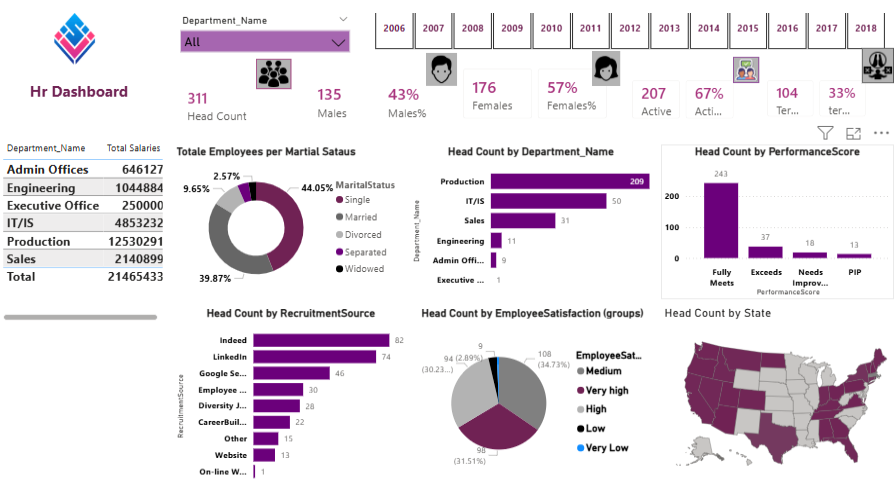

The dashboard page shown, as its layout file describes it:
{"tool":"powerbi","page":{"name":"Page 1","canvas":[1280,720],"ordinal":0},"visuals":[{"type":"cardVisual","fields":{"Data":["Departements.Head Count"]},"box":[236.7,100.6,177.2,96.4],"z":0},{"type":"donutChart","title":"Totale Employees per Martial Sataus","fields":{"Category":["HRData.MaritalStatus"],"Y":["Departements.Head Count"]},"box":[246.6,206.9,334.5,225.4],"z":1000},{"type":"clusteredBarChart","fields":{"Category":["Departements.Department_Name"],"Y":["Departements.Head Count"]},"box":[581.1,206.9,345.8,225.4],"z":2000},{"type":"clusteredColumnChart","fields":{"Category":["HRData.PerformanceScore"],"Y":["Departements.Head Count"]},"box":[938.3,206.9,330.2,225.4],"z":3000},{"type":"clusteredBarChart","fields":{"Category":["HRData.RecruitmentSource"],"Y":["Departements.Head Count"]},"box":[246.6,442.2,334.5,265],"z":4000},{"type":"pieChart","fields":{"Category":["HRData.EmployeeSatisfaction (groups)"],"Y":["Departements.Head Count"]},"box":[593.9,442.2,333.1,265],"z":5000},{"type":"slicer","fields":{"Values":["HRData.Year"]},"box":[507.4,0,772.4,75.1],"z":6000},{"type":"slicer","fields":{"Values":["Departements.Department_Name"]},"box":[246.6,12.8,260.8,67],"z":7000},{"type":"image","box":[14.2,0,185.7,106.3],"z":8000},{"type":"textbox","box":[14.2,109.1,198.4,51],"z":9000},{"type":"cardVisual","fields":{"Data":["HRData.Males","All Measure.Males%"]},"box":[422.4,92.1,226.8,104.9],"z":10000},{"type":"cardVisual","fields":{"Data":["All Measure.Active","All Measure.Active%"]},"box":[880.2,96.4,178.6,90.7],"z":11000},{"type":"cardVisual","fields":{"Data":["All Measure.Terminated","All Measure.terminated%"]},"box":[1071.5,96.4,174.3,87.9],"z":12000},{"type":"shapeMap","fields":{"Category":["HRData.State"],"Value":["All Measure.Head Count"]},"box":[938.3,442.2,341.6,265],"z":14000},{"type":"cardVisual","fields":{"Data":["All Measure.Females","All Measure.Females%"]},"box":[640.6,79.4,239.5,107.7],"z":14001},{"type":"tableEx","fields":{"Values":["Departements.Department_Name","All Measure.Total Salaries"]},"box":[0,197,236.7,270.7],"z":14002},{"type":"image","box":[1040.3,79.4,36.9,38.3],"z":14003},{"type":"image","box":[364.3,82.2,49.6,43.9],"z":14004},{"type":"image","box":[840.5,70.9,39.7,51],"z":14005},{"type":"image","box":[605.2,73.7,43.9,48.2],"z":14006},{"type":"image","box":[1223.1,66.6,45.4,51],"z":14007}]}

Visuals, with their boxes in screenshot pixels (x1, y1, x2, y2), scaled from the page's 1280x720 canvas onto the 896x493 screenshot:
cardVisual - Departements.Head Count: l=166, t=69, r=290, b=135
"Totale Employees per Martial Sataus" donutChart: l=173, t=142, r=407, b=296
clusteredBarChart - Departements.Department_Name x Departements.Head Count: l=407, t=142, r=649, b=296
clusteredColumnChart - HRData.PerformanceScore x Departements.Head Count: l=657, t=142, r=888, b=296
clusteredBarChart - HRData.RecruitmentSource x Departements.Head Count: l=173, t=303, r=407, b=484
pieChart - HRData.EmployeeSatisfaction (groups) x Departements.Head Count: l=416, t=303, r=649, b=484
slicer - HRData.Year: l=355, t=0, r=895, b=51
slicer - Departements.Department_Name: l=173, t=9, r=355, b=55
image: l=10, t=0, r=140, b=73
textbox: l=10, t=75, r=149, b=110
cardVisual - HRData.Males x All Measure.Males%: l=296, t=63, r=454, b=135
cardVisual - All Measure.Active x All Measure.Active%: l=616, t=66, r=741, b=128
cardVisual - All Measure.Terminated x All Measure.terminated%: l=750, t=66, r=872, b=126
shapeMap - HRData.State x All Measure.Head Count: l=657, t=303, r=895, b=484
cardVisual - All Measure.Females x All Measure.Females%: l=448, t=54, r=616, b=128
tableEx - Departements.Department_Name x All Measure.Total Salaries: l=0, t=135, r=166, b=320
image: l=728, t=54, r=754, b=81
image: l=255, t=56, r=290, b=86
image: l=588, t=49, r=616, b=83
image: l=424, t=50, r=454, b=83
image: l=856, t=46, r=888, b=81
